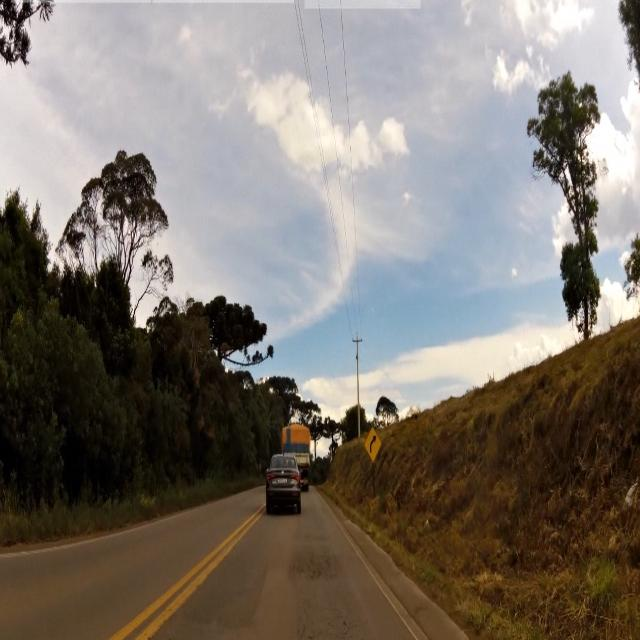A-2b: (365, 422, 381, 464)
